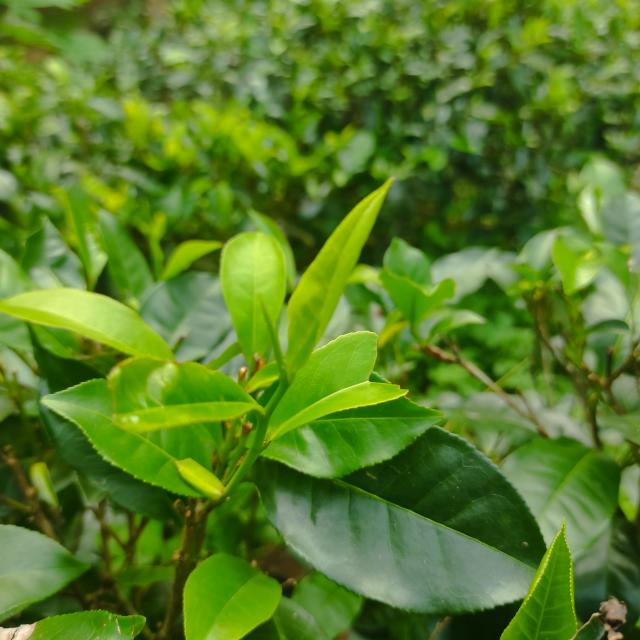unopened_leaf: (253, 281, 296, 392)
